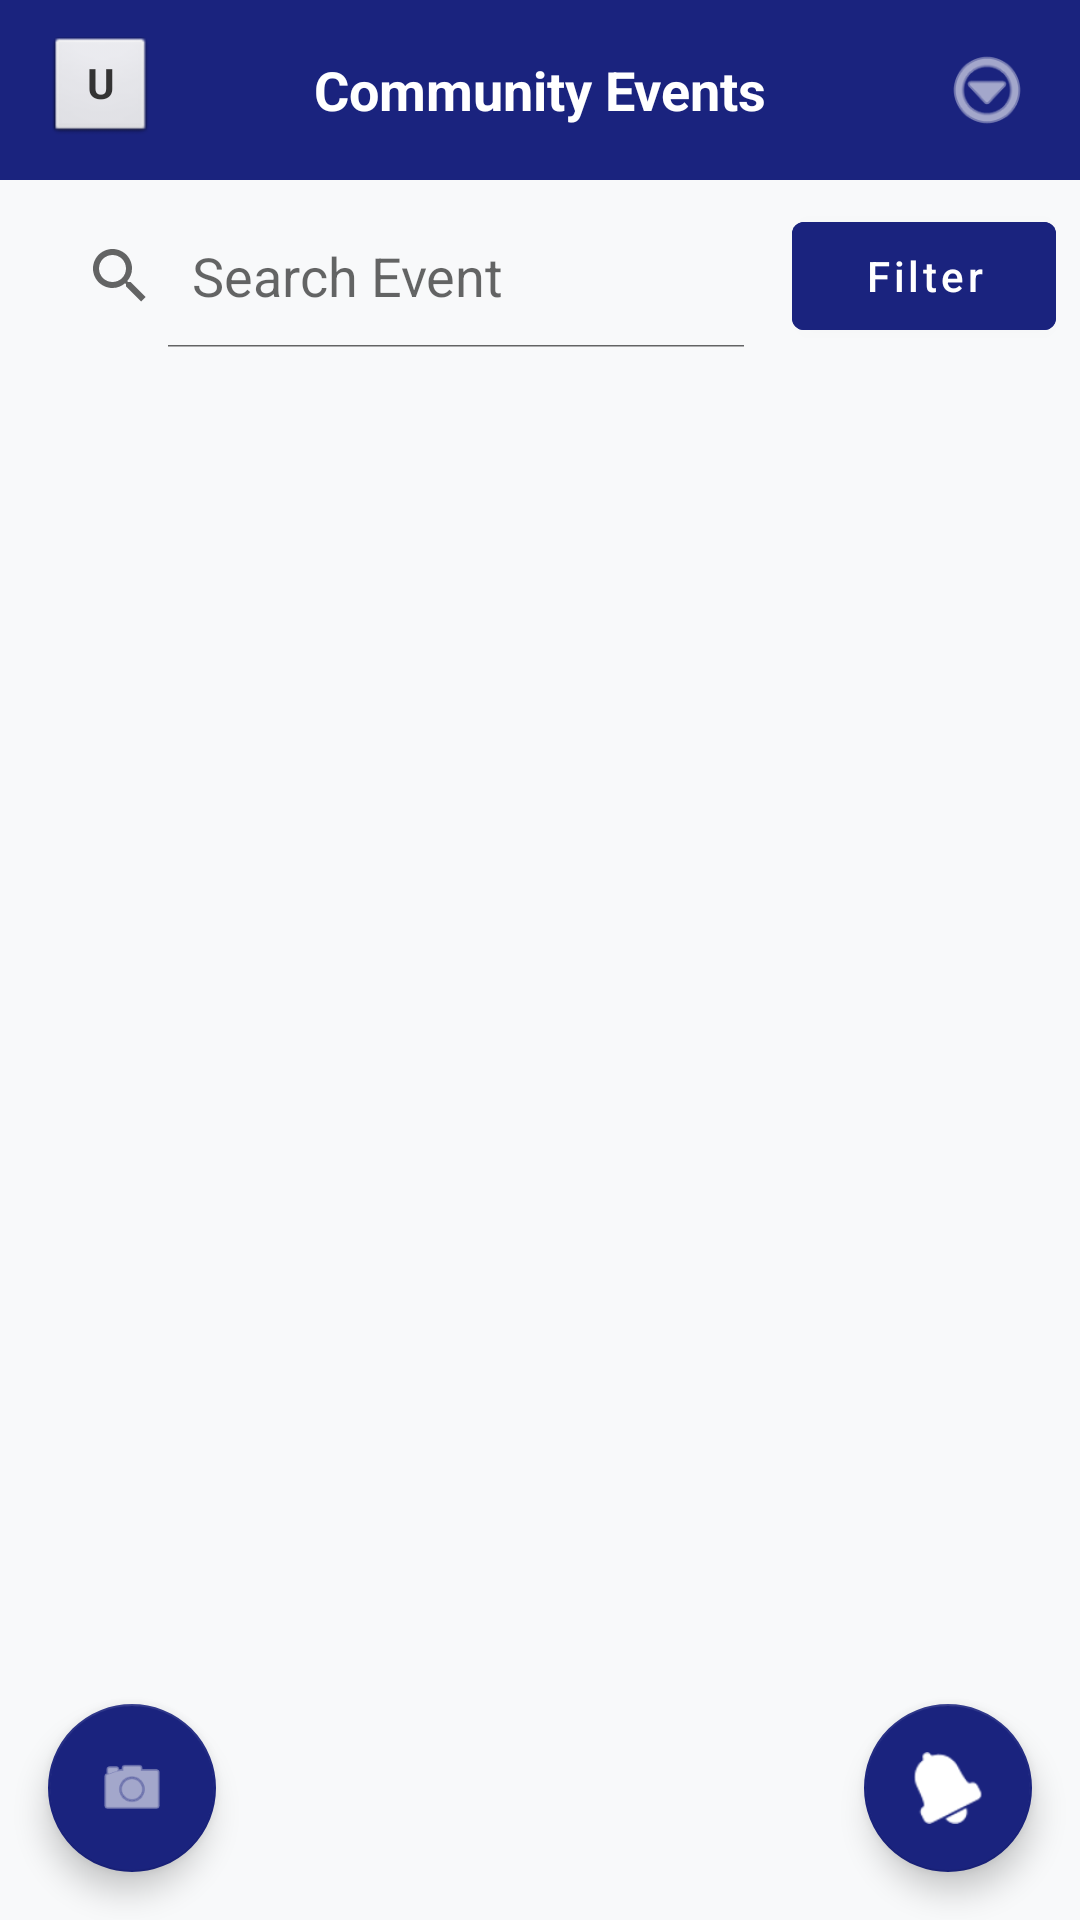

Locate icon controls on the screen. Image size 1080w x 1920h, boxes as (x1, y1, x2, y2).
camera: (48, 1704, 216, 1872)
more: (954, 57, 1020, 123)
popup reminder: (864, 1704, 1032, 1872)
